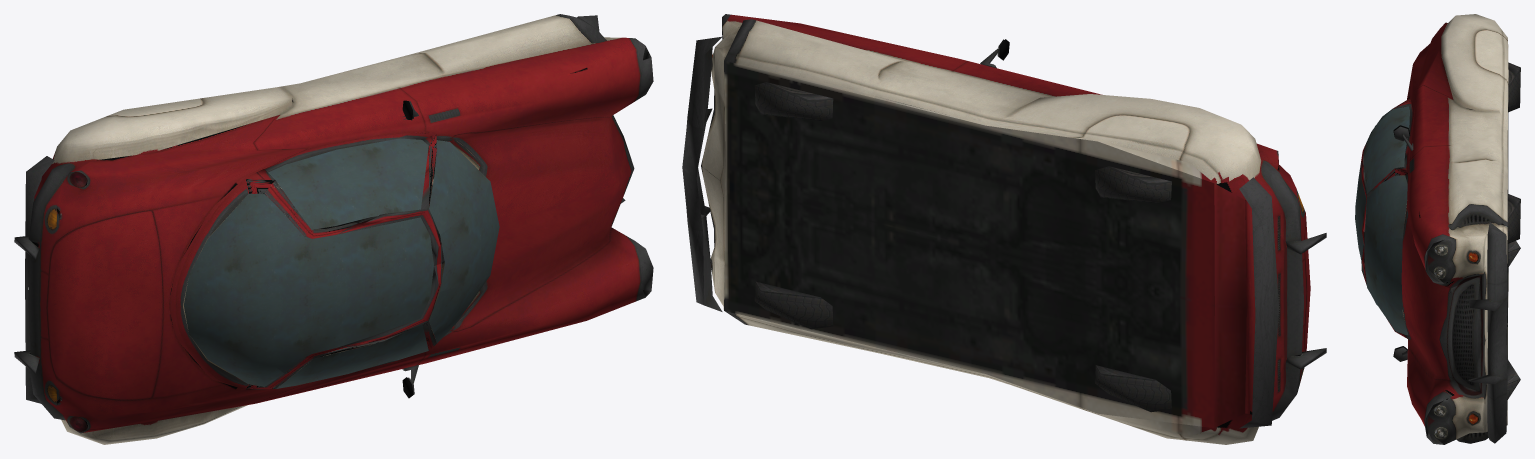
The model's file is veh_t6_nuketown_2020_car02_clean_LOD3.obj.
The picture shows the model from 3 angles, left to right: view 1: azimuth 30°, elevation 25°; view 2: azimuth 150°, elevation 25°; view 3: azimuth 270°, elevation 25°; orthographic projection. The views are drawn at different scales.
Visible parts, largest first — view 1: mtl_nt_2020_car_02_exterior, mtl_nt_2020_car_01_glass_out, mtl_nt_2020_car_01_glass_in, mtl_nt_2020_car_02_interior; view 2: mtl_nt_2020_car_02_exterior; view 3: mtl_nt_2020_car_02_exterior, mtl_nt_2020_car_01_glass_out, mtl_nt_2020_car_01_glass_in.
Part boxes in pixels (x1,y1,x2,y2): mtl_nt_2020_car_02_exterior: (14,14,653,444); mtl_nt_2020_car_01_glass_out: (184,138,499,388); mtl_nt_2020_car_01_glass_in: (184,138,499,387); mtl_nt_2020_car_02_interior: (183,143,480,380); mtl_nt_2020_car_02_exterior: (682,14,1326,444); mtl_nt_2020_car_02_exterior: (1361,14,1520,444); mtl_nt_2020_car_01_glass_out: (1355,106,1409,335); mtl_nt_2020_car_01_glass_in: (1356,107,1409,334).
Bounding box in the file's own units: 502 × 246 × 149.
